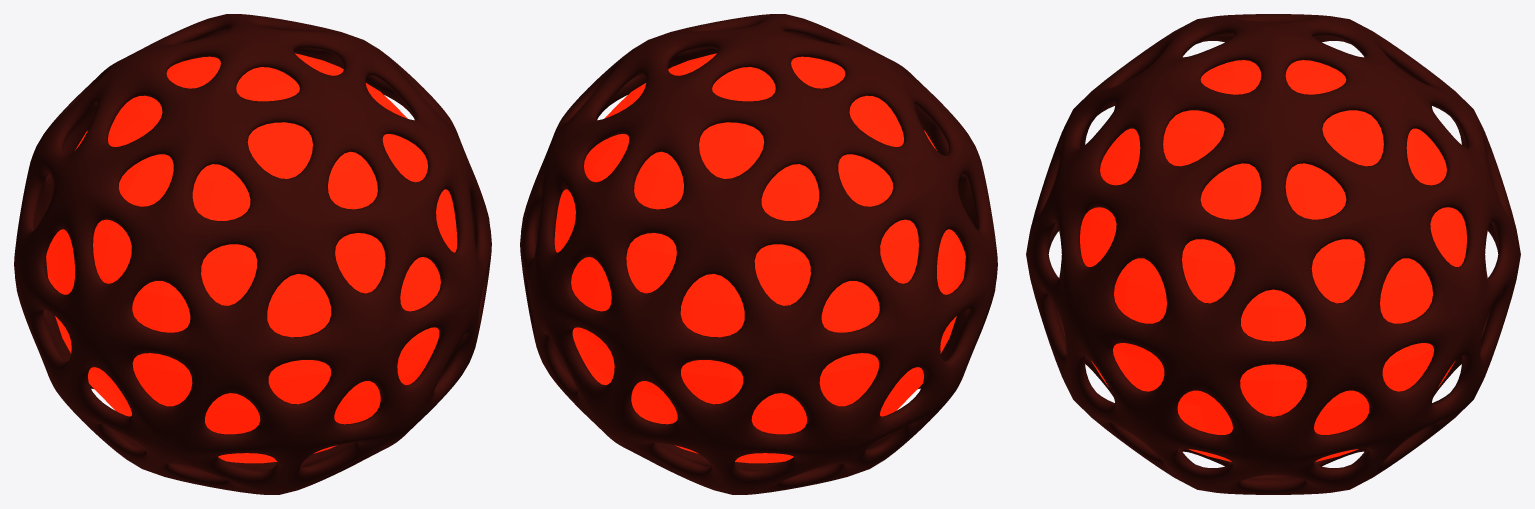
The model's file is orb.fbx.
3 renders of one model, left to right at view 1: azimuth 30°, elevation 25°; view 2: azimuth 150°, elevation 25°; view 3: azimuth 270°, elevation 25°, orthographic.
Visible parts, largest first — view 1: Icosphere, Sphere; view 2: Icosphere, Sphere; view 3: Icosphere, Sphere.
Part boxes in pixels (x1,y1,x2,y2): Icosphere: (14,14,491,494); Sphere: (46,53,457,463); Icosphere: (520,14,997,494); Sphere: (554,53,965,463); Icosphere: (1026,14,1520,494); Sphere: (1080,60,1466,461).
Size of the model in its own units: 18.99 by 19.55 by 19.54.
